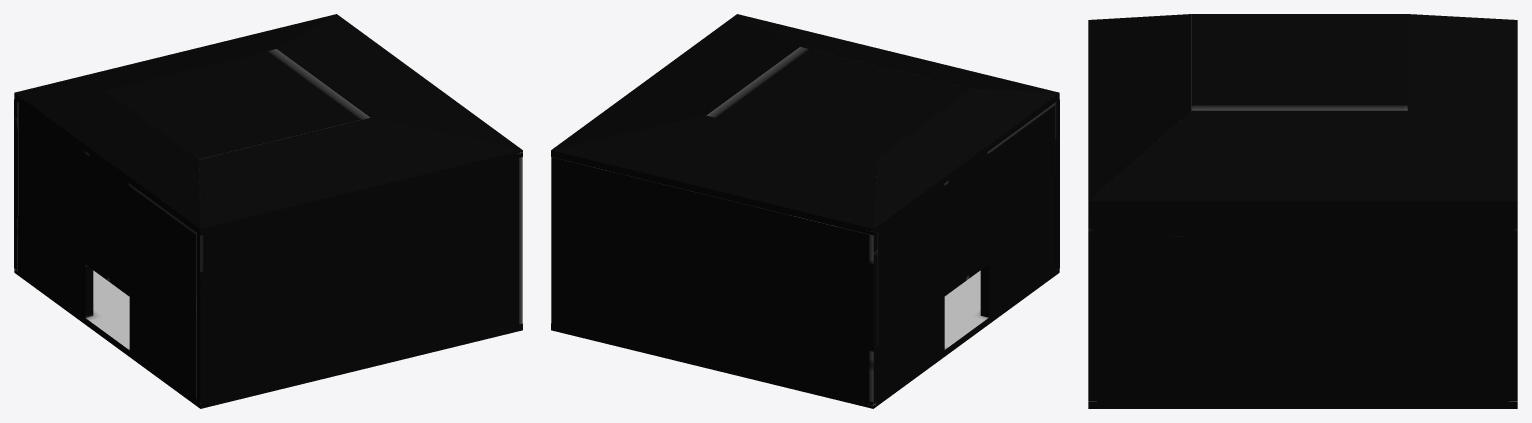
Rendered from fellshift_origin.glb.
3 views of the same model, side by side, from view 1: azimuth 30°, elevation 25°; view 2: azimuth 150°, elevation 25°; view 3: azimuth 270°, elevation 25° (orthographic). The views are drawn at different scales.
Parts seen in each view (by area): view 1: FellshiftOrigin, SunscapeCeiling, Front, Ceiling, Floor; view 2: FellshiftOrigin, SunscapeCeiling, Front, Ceiling, Floor; view 3: FellshiftOrigin, SunscapeCeiling, Ceiling.
Boxes of the visible parts, x1,y1,x2,y2 form: FellshiftOrigin: [14, 93, 522, 408]; SunscapeCeiling: [15, 14, 522, 228]; Front: [18, 102, 196, 398]; Ceiling: [105, 49, 369, 159]; Floor: [86, 270, 129, 349]; FellshiftOrigin: [551, 93, 1059, 408]; SunscapeCeiling: [551, 14, 1058, 228]; Front: [877, 103, 1055, 398]; Ceiling: [707, 47, 971, 157]; Floor: [944, 270, 988, 349]; FellshiftOrigin: [1088, 201, 1517, 408]; SunscapeCeiling: [1088, 14, 1517, 201]; Ceiling: [1191, 14, 1407, 110].
Size of the model in its own units: 80.08 by 48.9 by 80.
1 material, 1 textured.
